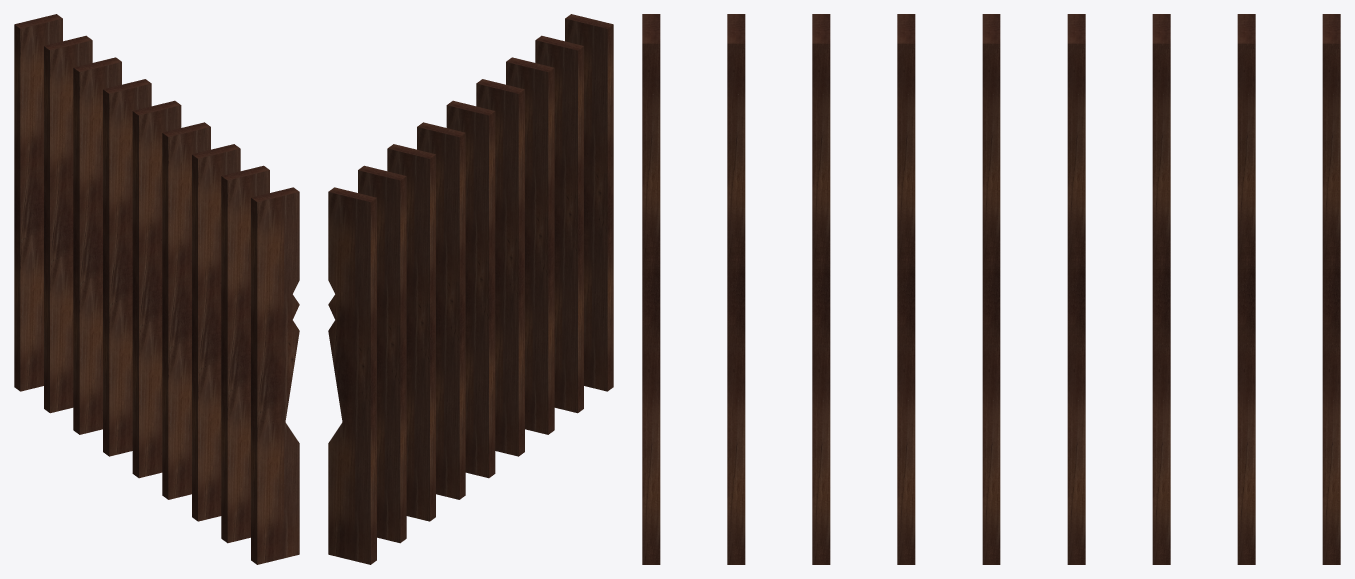
File: SM_WI_Wood_3.fbx
The picture shows the model from 3 angles, left to right: view 1: azimuth 30°, elevation 25°; view 2: azimuth 150°, elevation 25°; view 3: azimuth 270°, elevation 25°; orthographic projection. The views are drawn at different scales.
Parts seen in each view (by area): view 1: SM_WI_Wood_3; view 2: SM_WI_Wood_3; view 3: SM_WI_Wood_3.
Part boxes in pixels (x1,y1,x2,y2): SM_WI_Wood_3: (14, 14, 299, 564); SM_WI_Wood_3: (328, 14, 613, 564); SM_WI_Wood_3: (642, 14, 1340, 564).
Bounding box in the file's own units: 8.94 × 88.67 × 73.02.
1 material, 1 textured.
